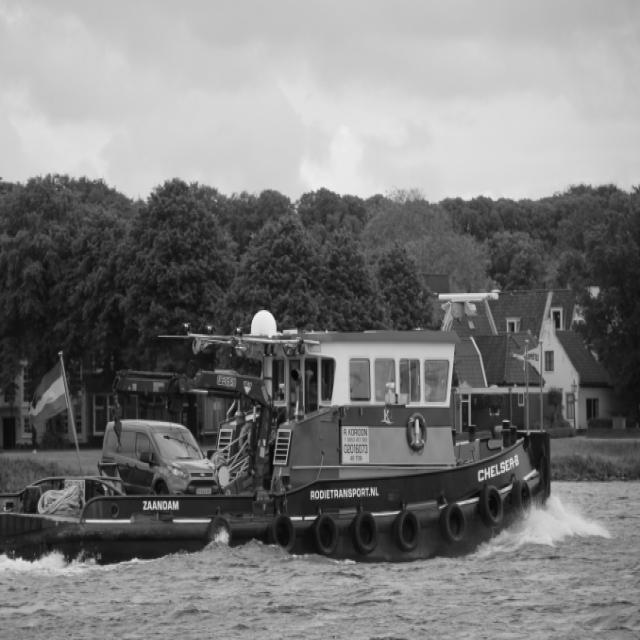tugboat: (1, 280, 567, 597)
